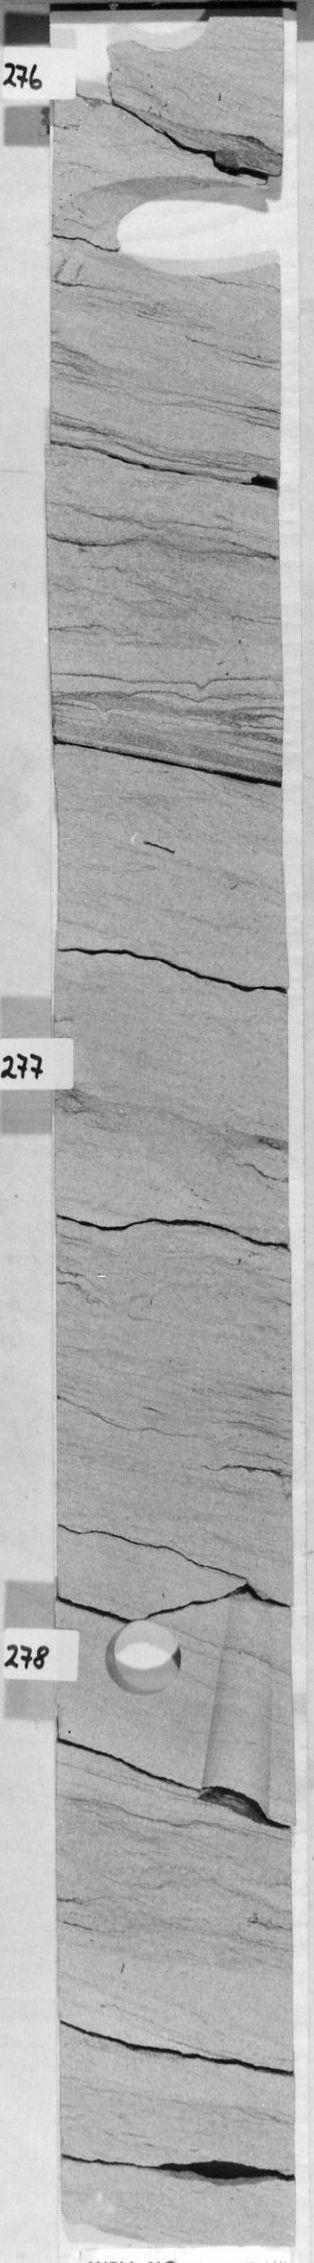hplug: (94, 1611, 199, 1704), (120, 16, 217, 59)
scal: (56, 166, 269, 313)
vplug: (196, 1585, 287, 1823), (53, 4, 125, 123)
